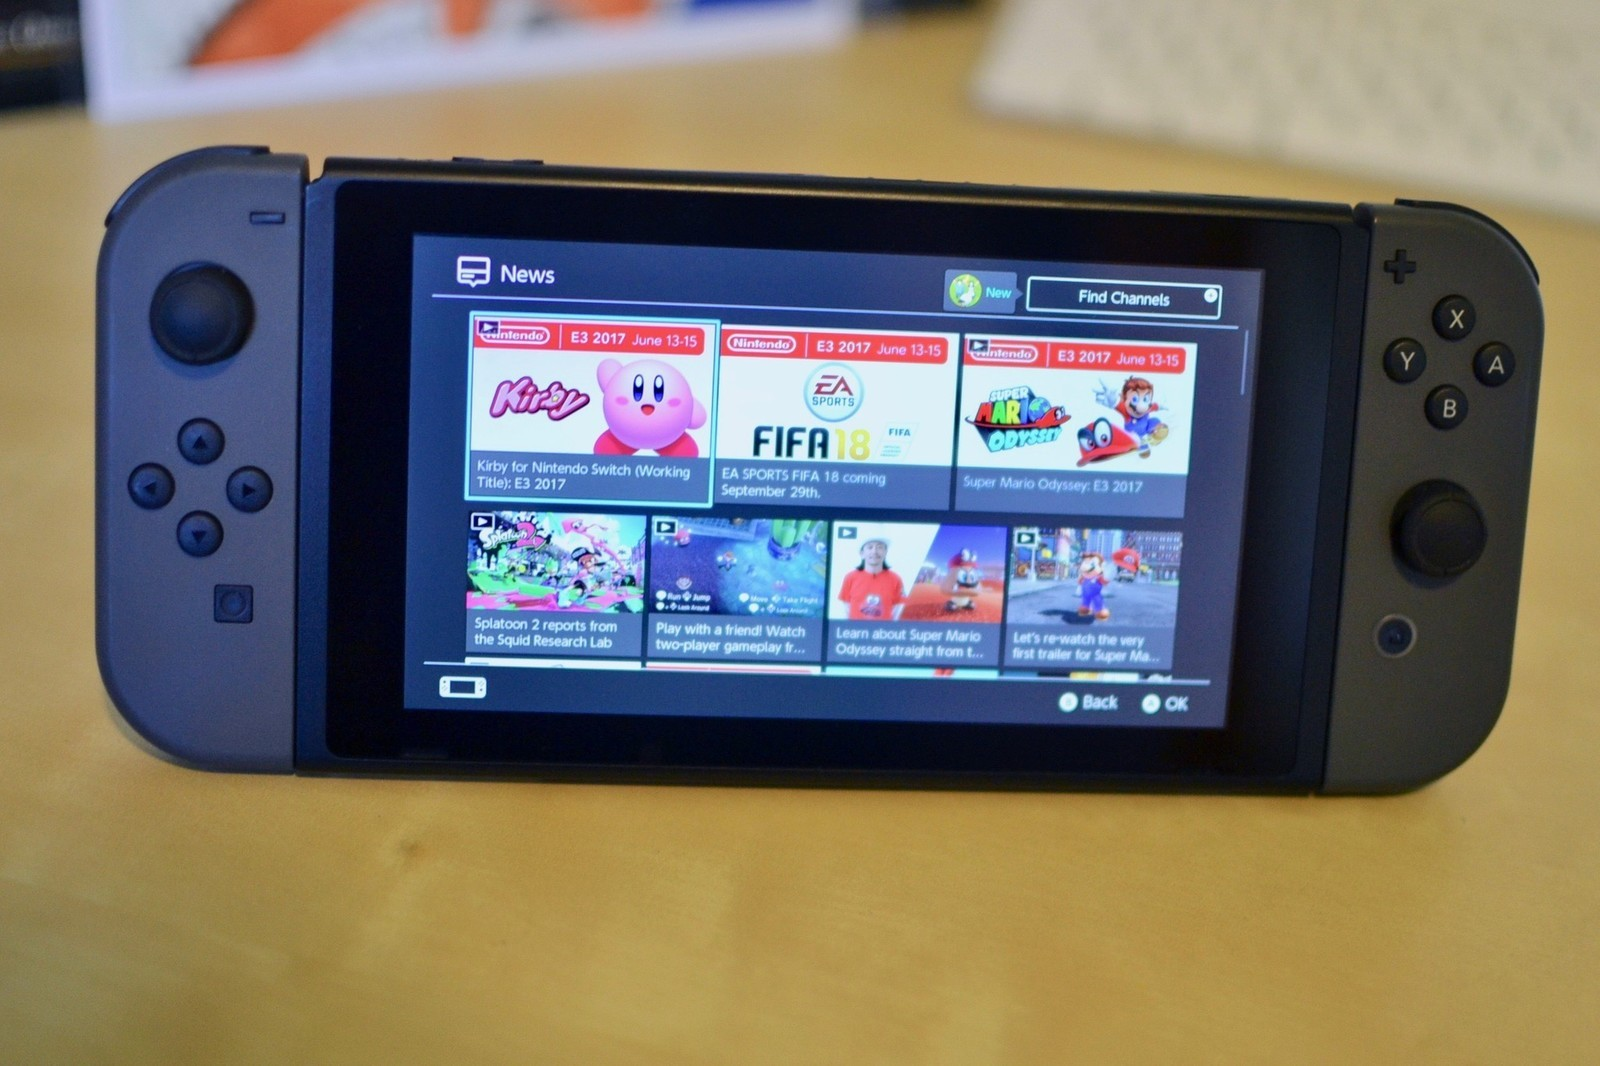NintendoSwitch: (87, 139, 1560, 816)
